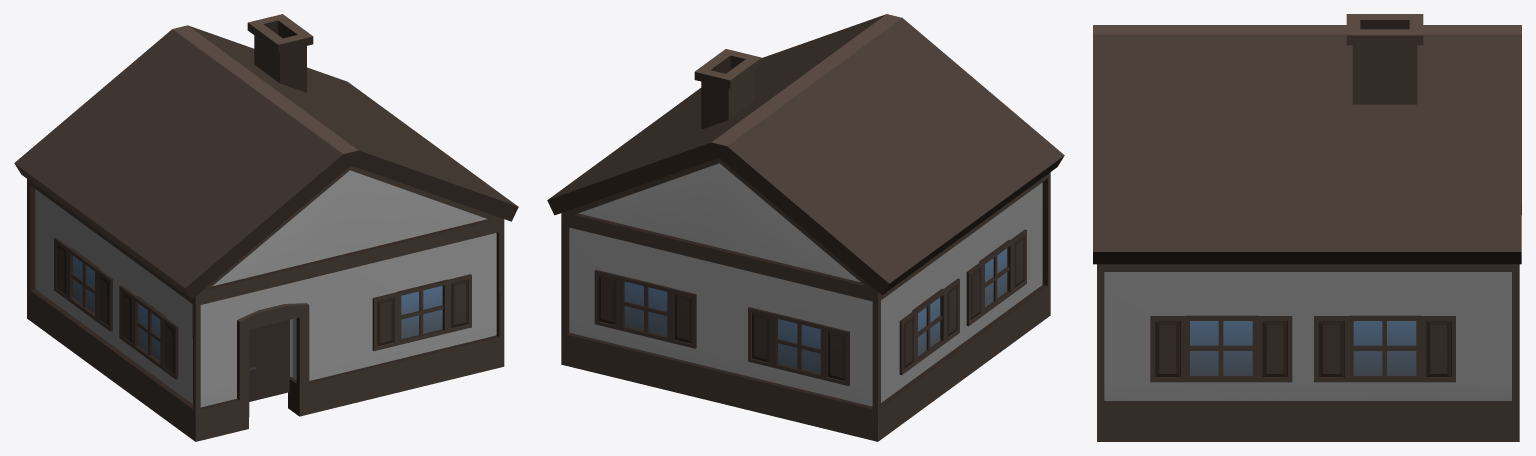
File: Residential_OldCottage_alt03.glb
3 renders of one model, left to right at view 1: azimuth 30°, elevation 25°; view 2: azimuth 150°, elevation 25°; view 3: azimuth 270°, elevation 25°, orthographic. The views are drawn at different scales.
Parts seen in each view (by area): view 1: base.126, windowRefl.098; view 2: base.126, windowRefl.098; view 3: base.126, windowRefl.098.
Part boxes in pixels (x1=…): base.126: x1=14, y1=14, x2=518, y2=441; windowRefl.098: x1=73, y1=256, x2=442, y2=361; base.126: x1=547, y1=14, x2=1064, y2=441; windowRefl.098: x1=624, y1=248, x2=1007, y2=373; base.126: x1=1093, y1=14, x2=1521, y2=441; windowRefl.098: x1=1190, y1=321, x2=1416, y2=375.
Size of the model in its own units: 9.71 by 7.79 by 8.63.
